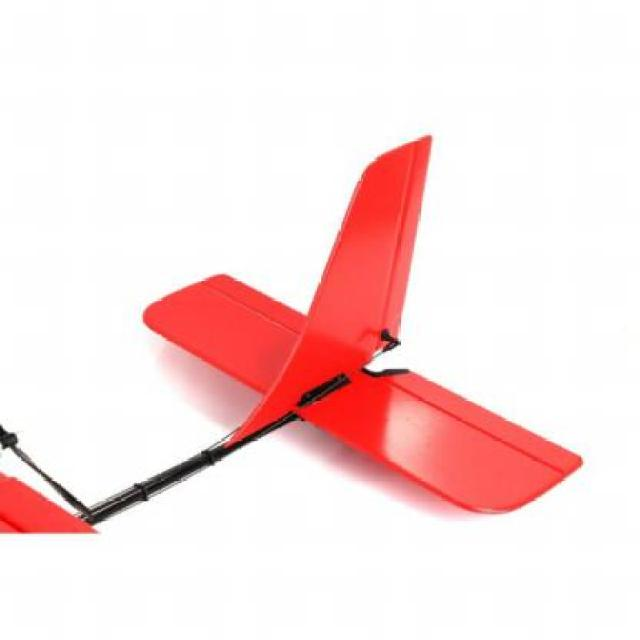iha: (3, 118, 584, 534)
